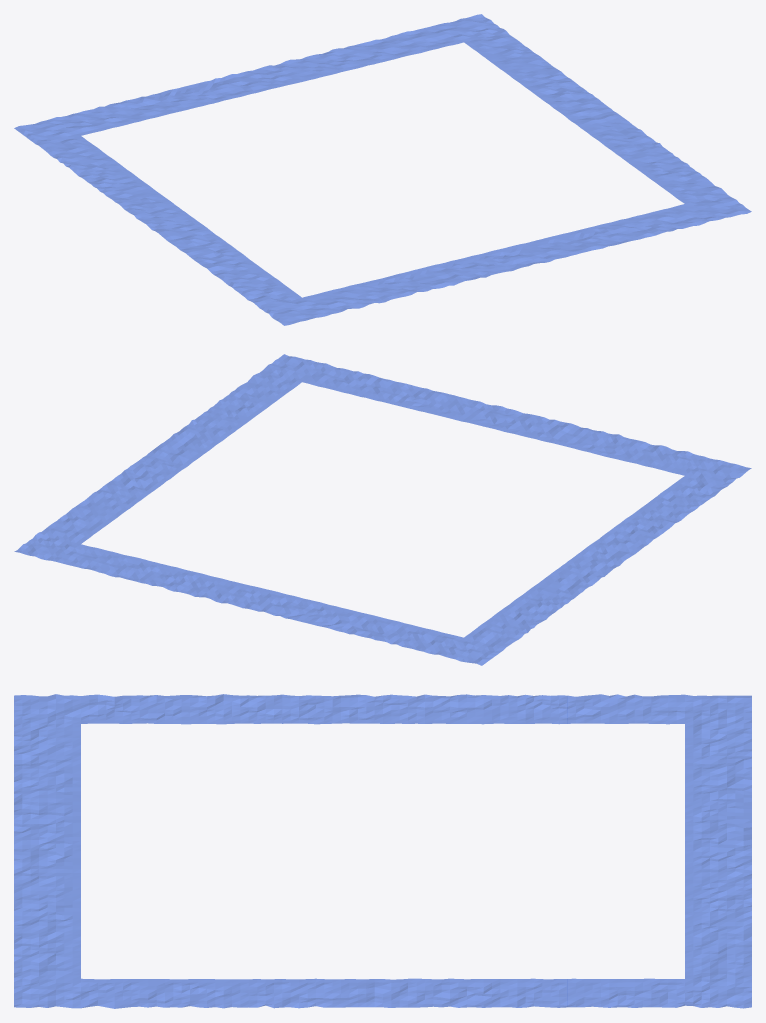
Rendered from water.fbx.
The picture shows the model from 3 angles, top to bottom: view 1: azimuth 30°, elevation 25°; view 2: azimuth 150°, elevation 25°; view 3: azimuth 270°, elevation 25°; orthographic projection. The views are drawn at different scales.
Visible parts, largest first — view 1: Water; view 2: Water; view 3: Water.
Boxes of the visible parts, x1,y1,x2,y2 form: Water: (14, 14, 751, 325); Water: (14, 354, 751, 665); Water: (14, 694, 751, 1008).
Size of the model in its own units: 200 by 1.34 by 200.
